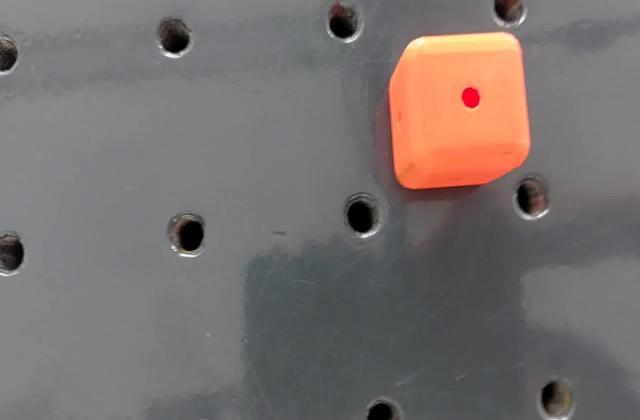cube: (382, 27, 536, 196)
